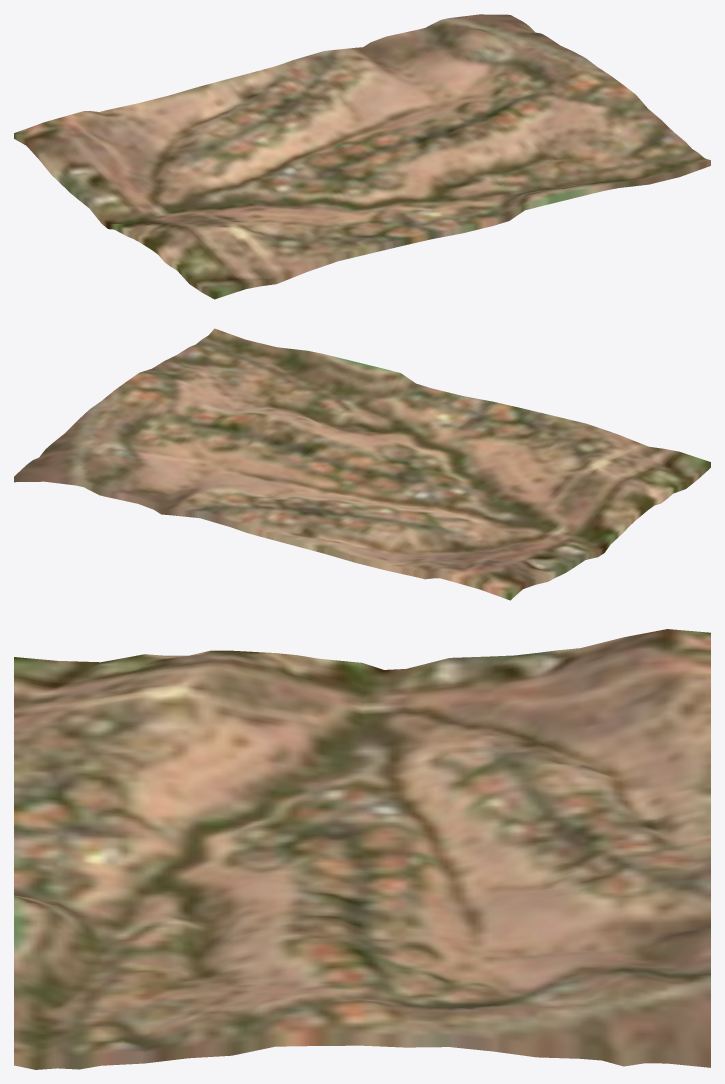
File: terrain_r6_c0_lod2.glb
The picture shows the model from 3 angles, top to bottom: view 1: azimuth 30°, elevation 25°; view 2: azimuth 150°, elevation 25°; view 3: azimuth 270°, elevation 25°; orthographic projection. The views are drawn at different scales.
Visible parts, largest first — view 1: terrain_r6_c0_lod2; view 2: terrain_r6_c0_lod2; view 3: terrain_r6_c0_lod2.
Boxes of the visible parts, x1,y1,x2,y2 form: terrain_r6_c0_lod2: [14, 14, 710, 299]; terrain_r6_c0_lod2: [14, 328, 710, 600]; terrain_r6_c0_lod2: [14, 629, 710, 1069].
Bounding box in the file's own units: 1125 × 85.08 × 787.
1 material, 1 textured.
